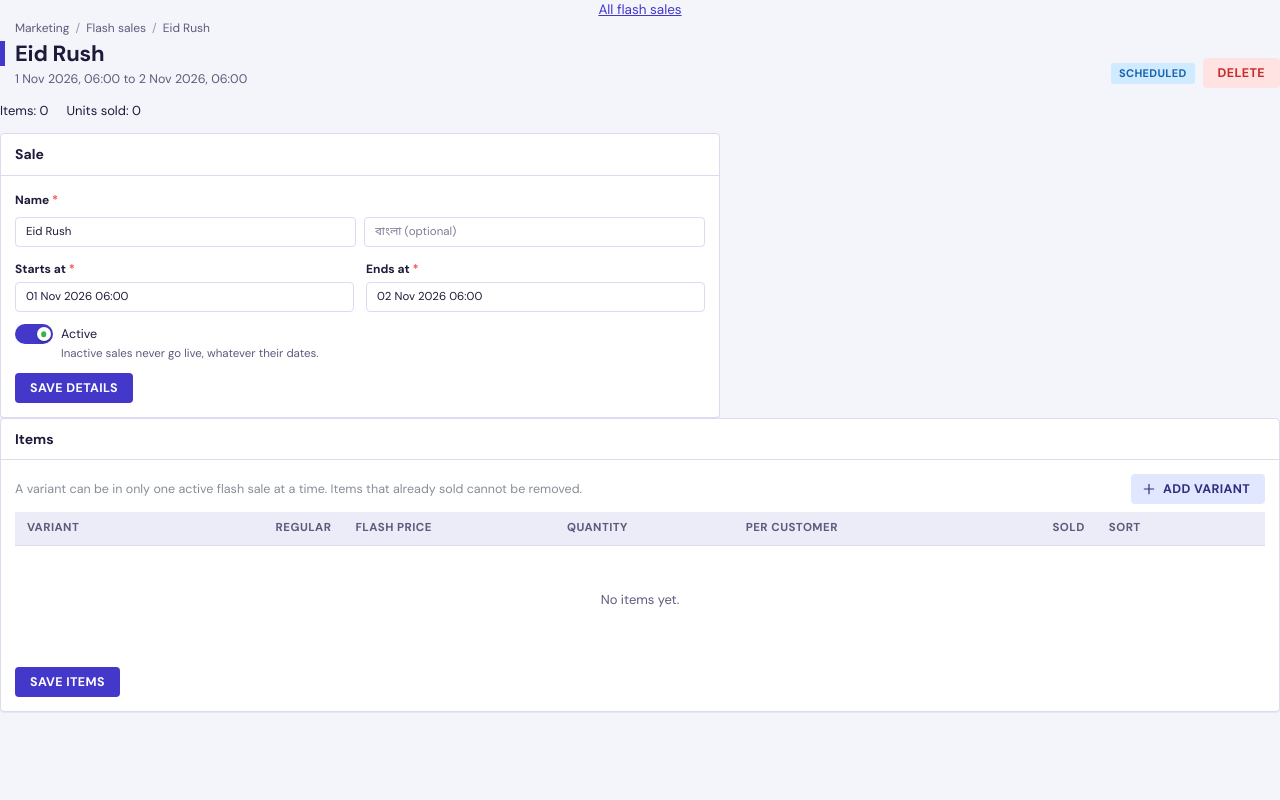
Test: FlashSaleEditorPage items › finds a variant by SKU and adds it with its regular price
Expected: the text "No items yet." is shown, 601,591 -> 679,608
Step 1. Click the button "Add variant" → click(1198, 489), box 1131,474 -> 1265,504
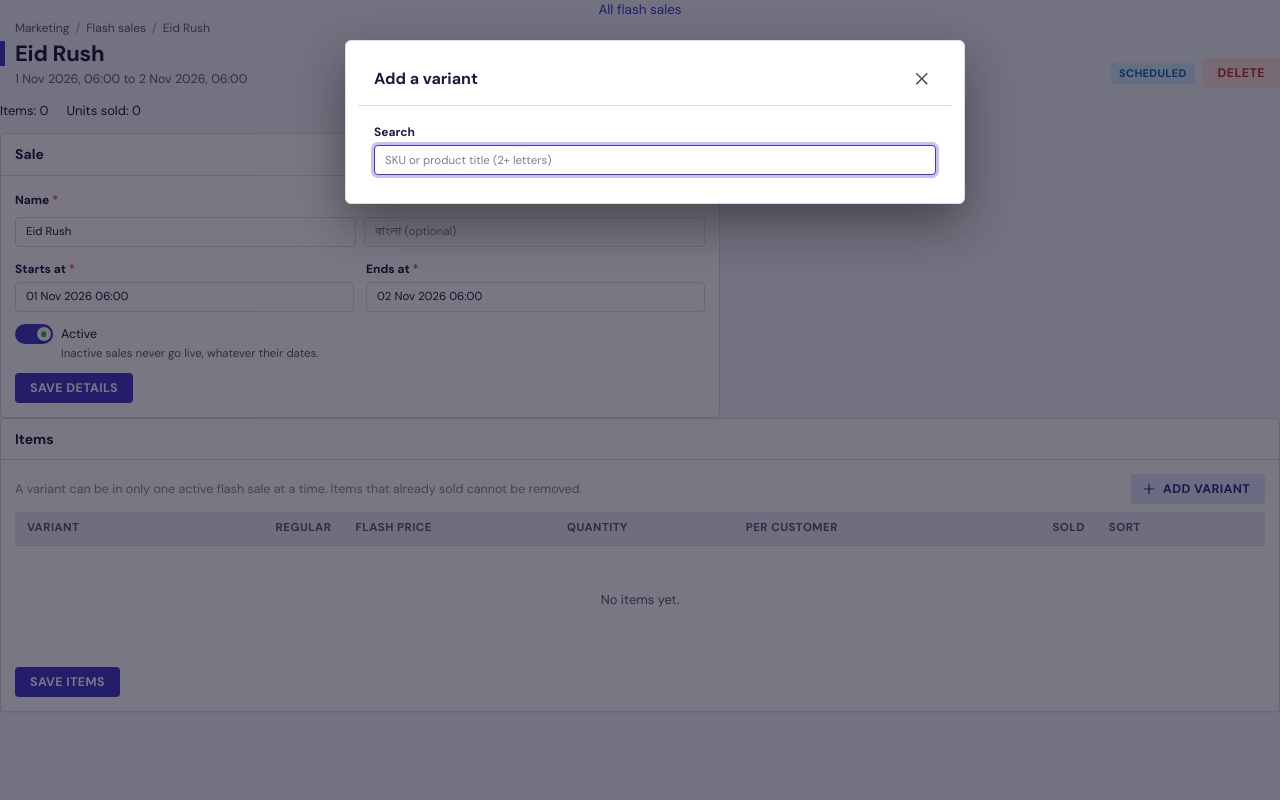
Step 2. Type "RD-9" into the field with placeholder "SKU or product title (2+ letters)" → (655, 160), box 374,145 -> 936,175
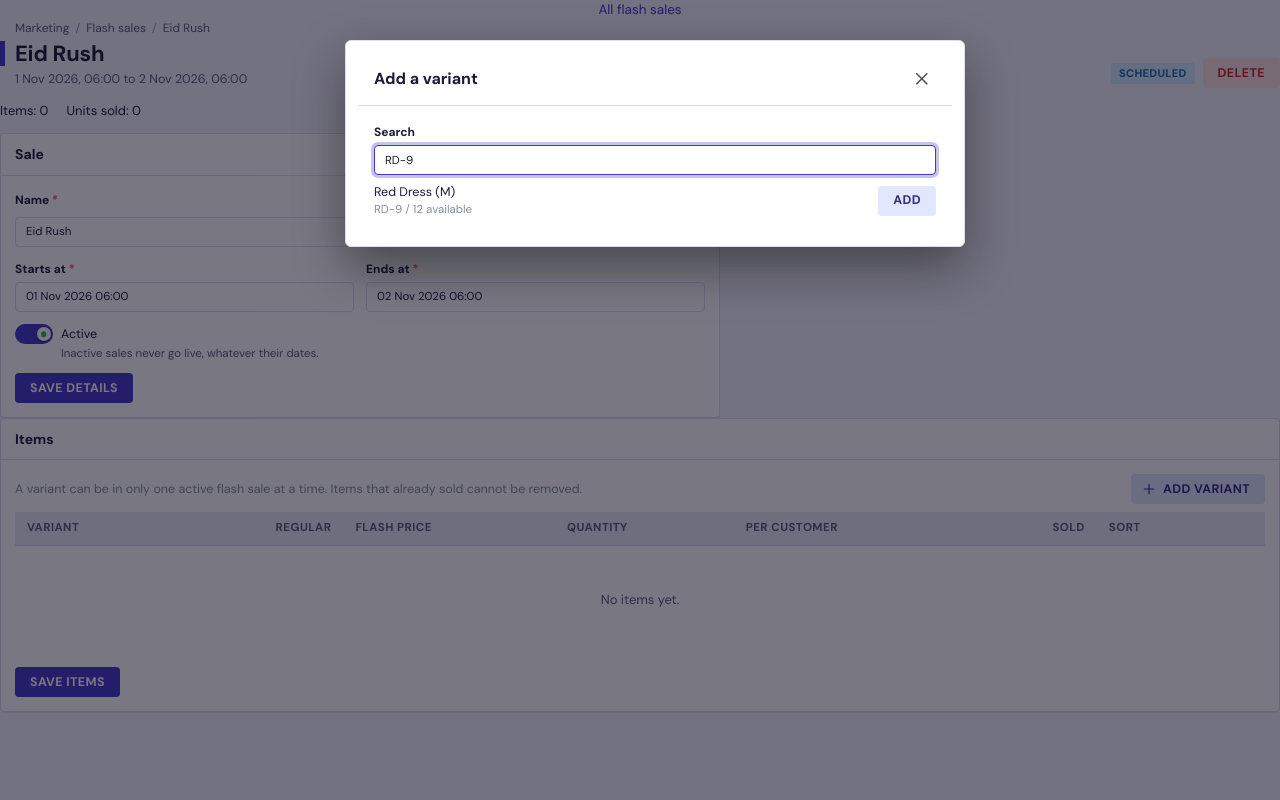
Step 3. Click the button "Add" → click(907, 200), box 878,186 -> 936,216
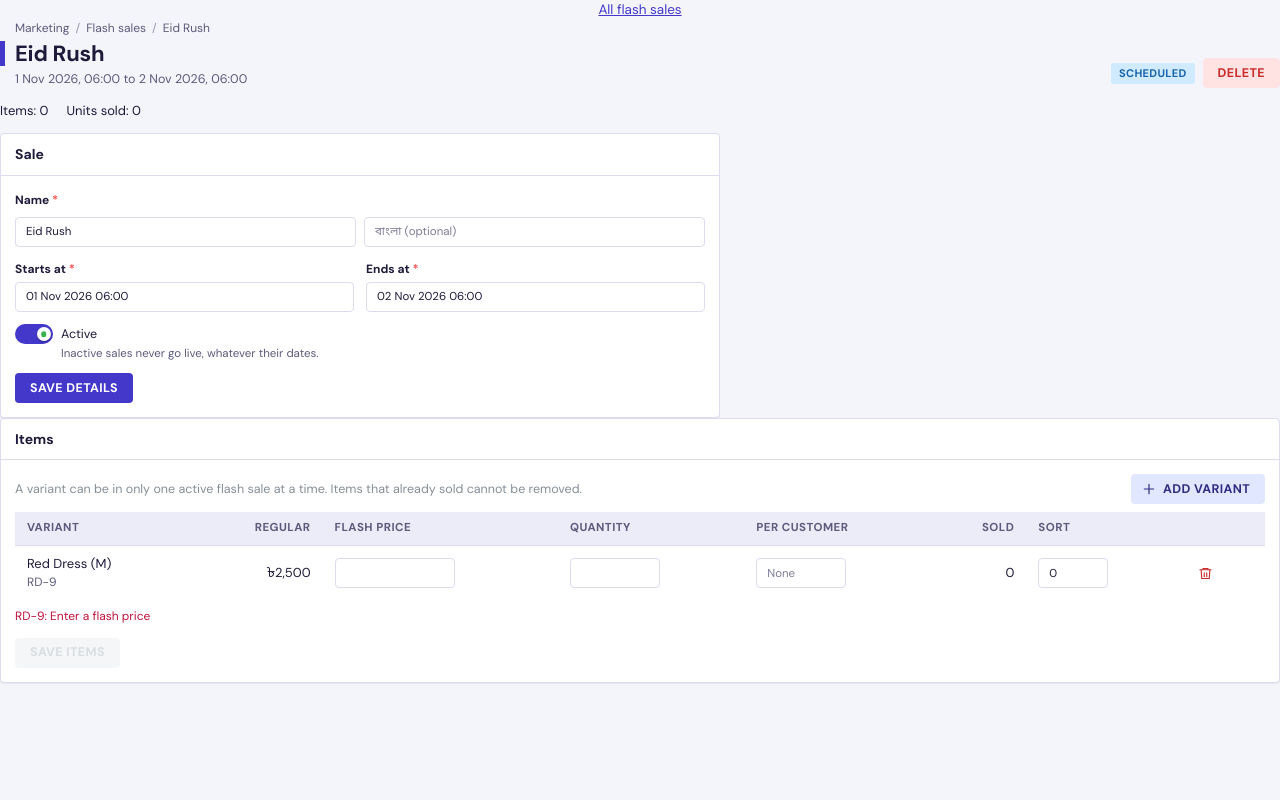
Expected: the text "Red Dress (M)" is shown, 27,555 -> 111,572
Expected: the text "৳2,500" is shown, 192,546 -> 323,600
